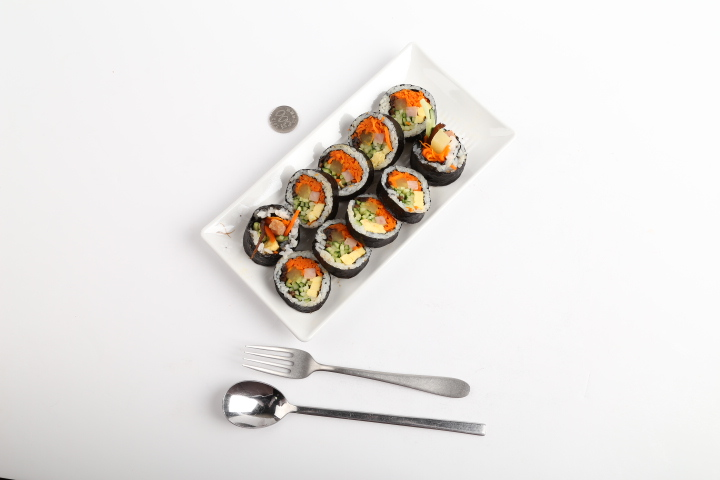dish: (200, 44, 513, 341)
ref_coin: (269, 105, 298, 132)
ref_fork: (241, 345, 318, 379)
ref_spoon: (223, 381, 298, 429)
김밥: (241, 83, 467, 313)
